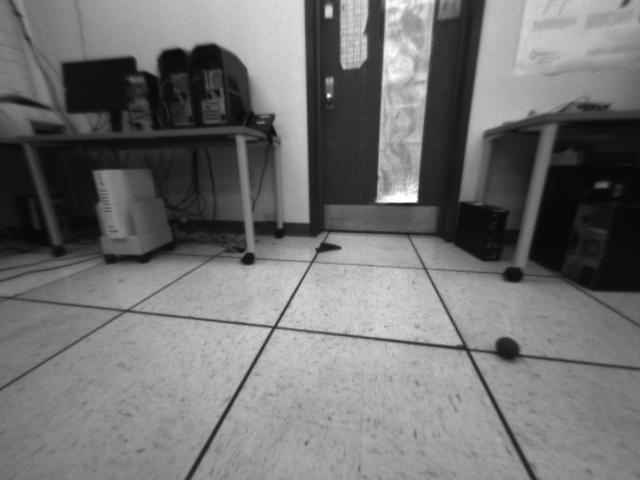dogtoy: (491, 330, 526, 365)
